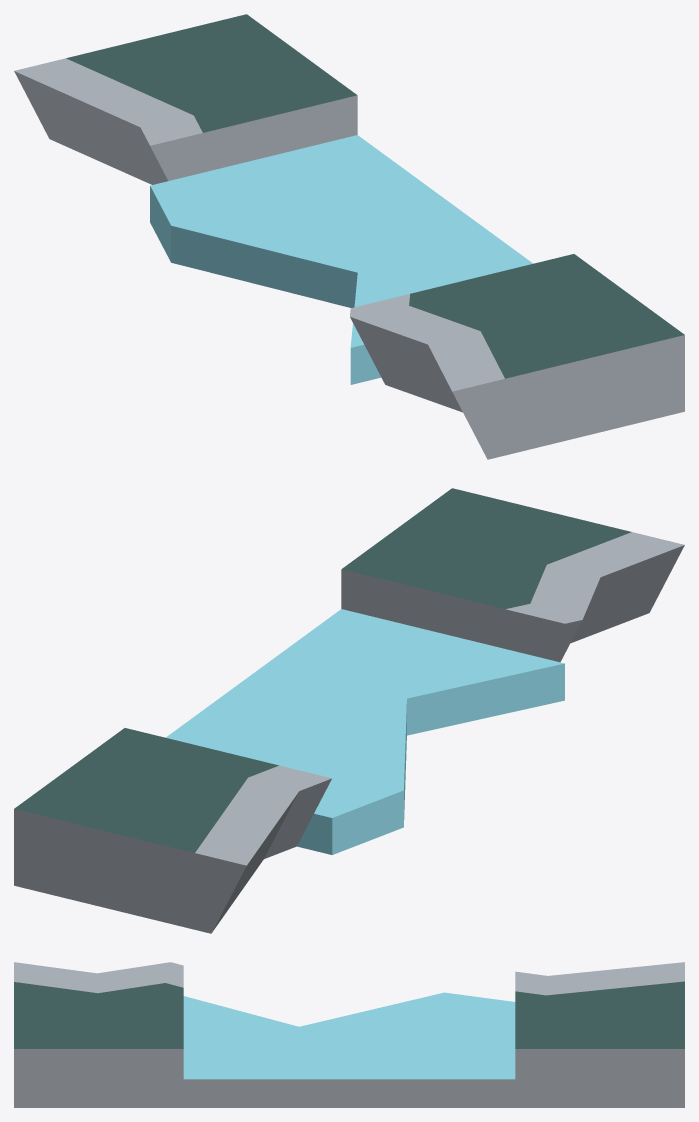
The model's file is Grey_Waterfall_Top_01.fbx.
The picture shows the model from 3 angles, top to bottom: view 1: azimuth 30°, elevation 25°; view 2: azimuth 150°, elevation 25°; view 3: azimuth 270°, elevation 25°; orthographic projection. The views are drawn at different scales.
Visible parts, largest first — view 1: Mesh1_Grey_Waterfall_Top Model; view 2: Mesh1_Grey_Waterfall_Top Model; view 3: Mesh1_Grey_Waterfall_Top Model.
Boxes of the visible parts, bbox=[...] form: Mesh1_Grey_Waterfall_Top Model: bbox=[14, 14, 684, 459]; Mesh1_Grey_Waterfall_Top Model: bbox=[14, 488, 684, 933]; Mesh1_Grey_Waterfall_Top Model: bbox=[14, 962, 684, 1107].
Size of the model in its own units: 0.92 by 0.29 by 3.
